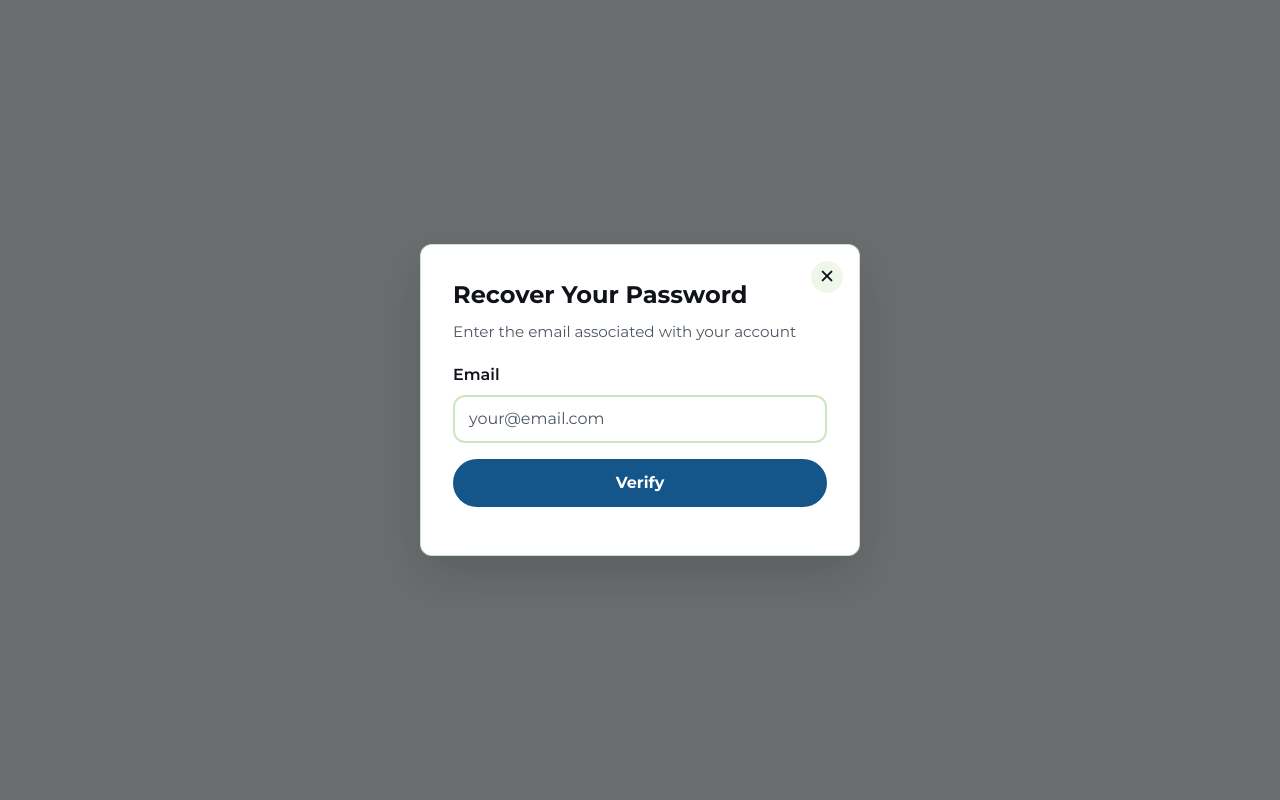
Test: PasswordRecoveryModal › walks through the recovery flow end to end
This screenshot has width=1280, height=800.
In the field labelled "Email": point(640, 419) [453,395,827,443], type "victor@example.com"
Click the button "Verify": point(640, 483) [453,459,827,507]
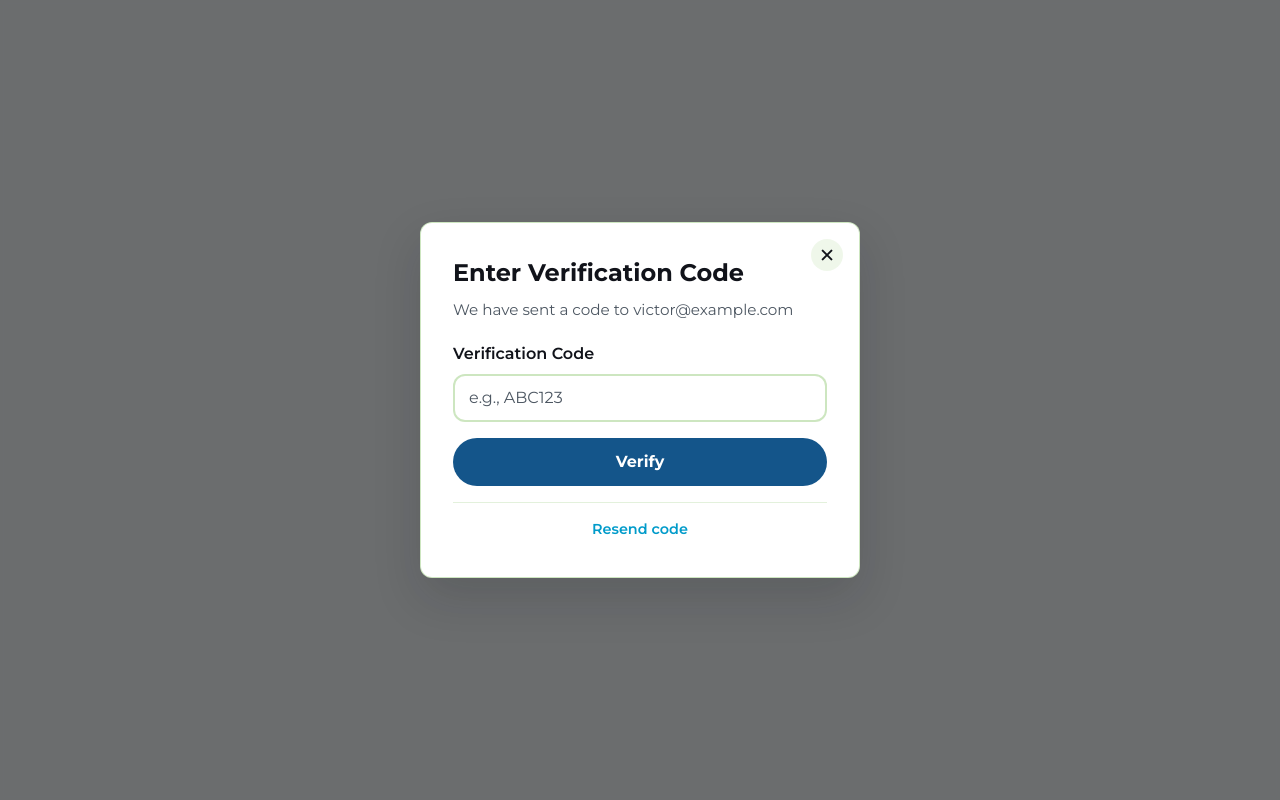
Now the heading "Enter Verification Code" is shown, box [453,258,744,287]
In the field labelled "Verification Code": point(640, 398) [453,374,827,422], type "abc123"
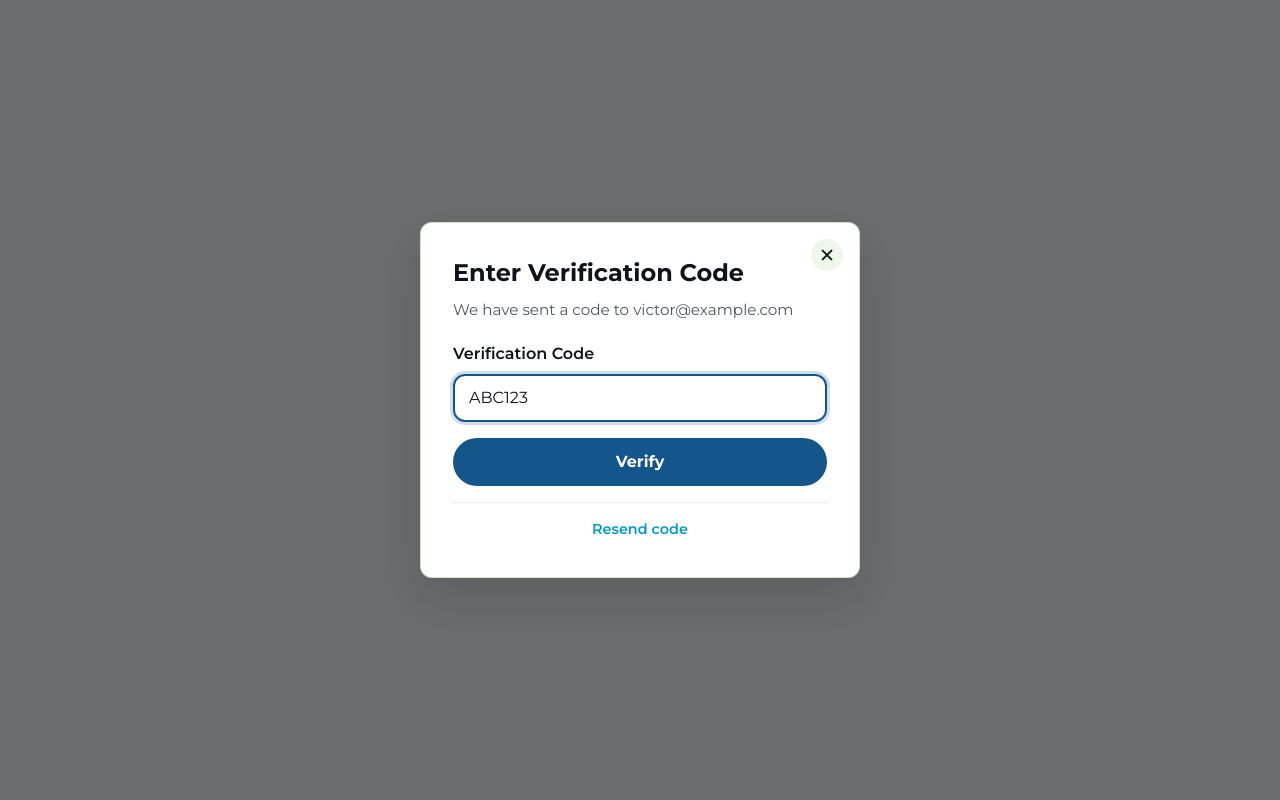
Click the button "Verify": point(640, 462) [453,438,827,486]
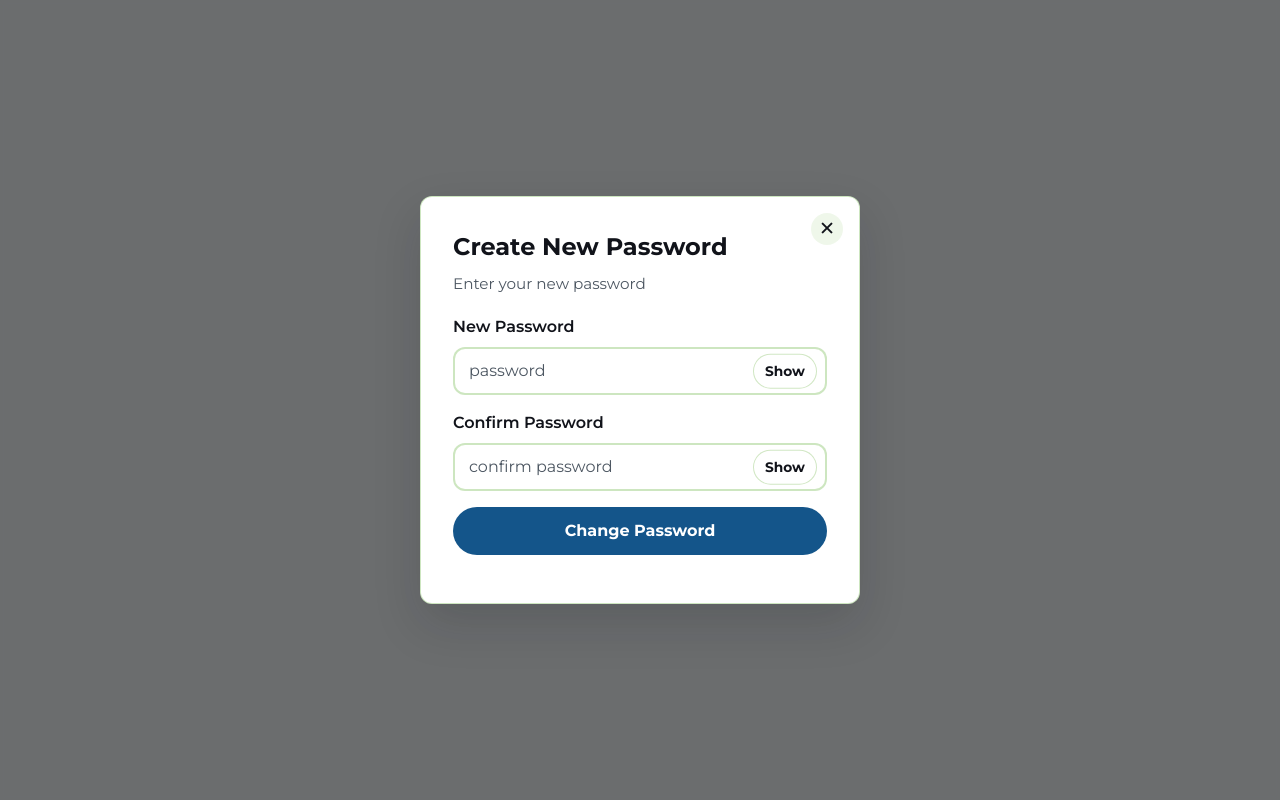
Now the heading "Create New Password" is shown, box [453,232,728,261]
In the password field labelled "New Password": point(640, 371) [453,347,827,395], type "password123"
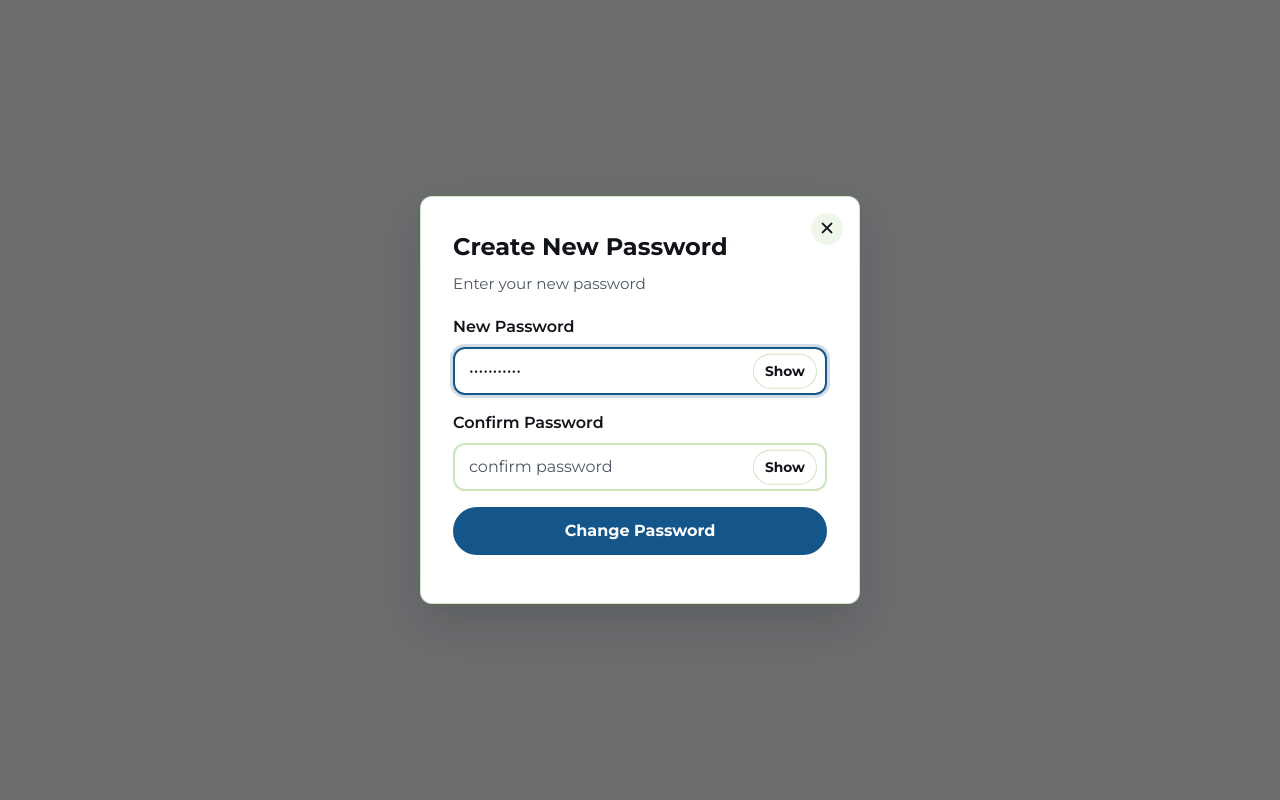
In the password field labelled "Confirm Password": point(640, 467) [453,443,827,491], type "password123"
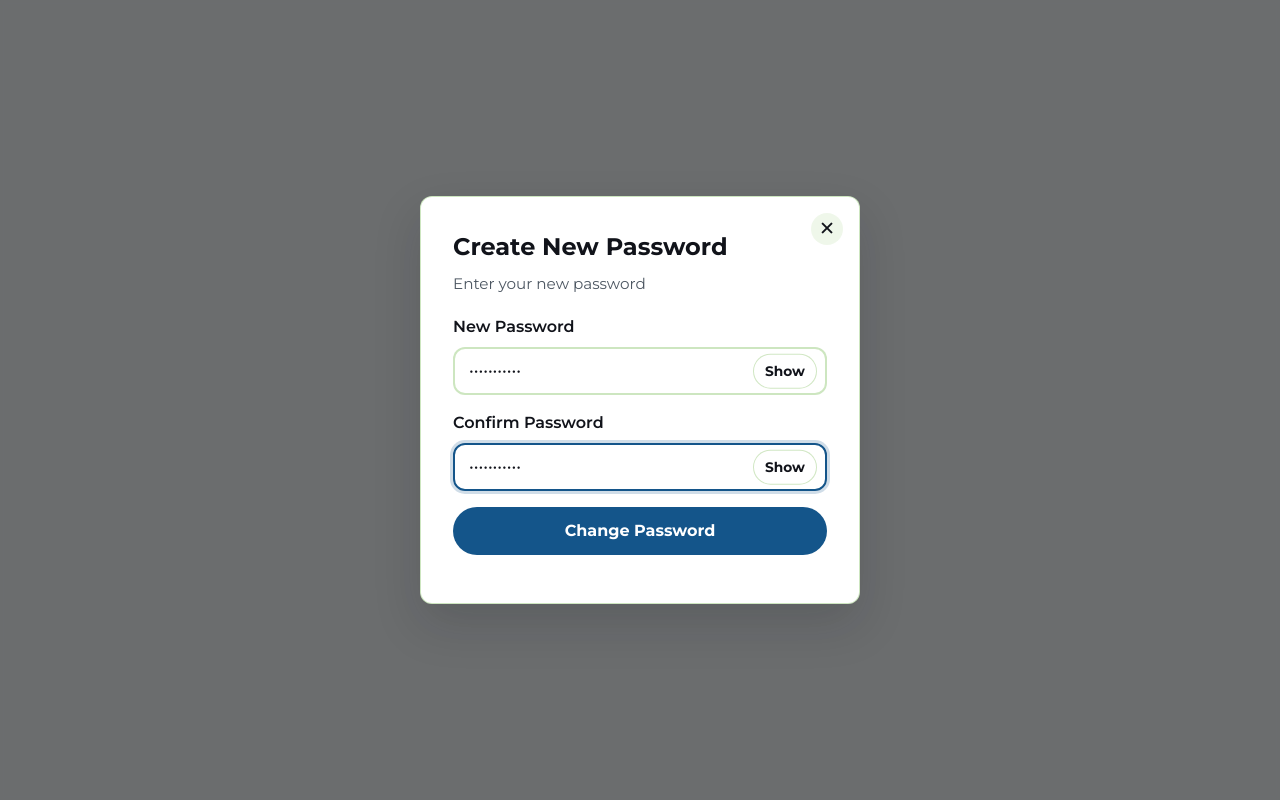
Click the button "Change Password": point(640, 531) [453,507,827,555]
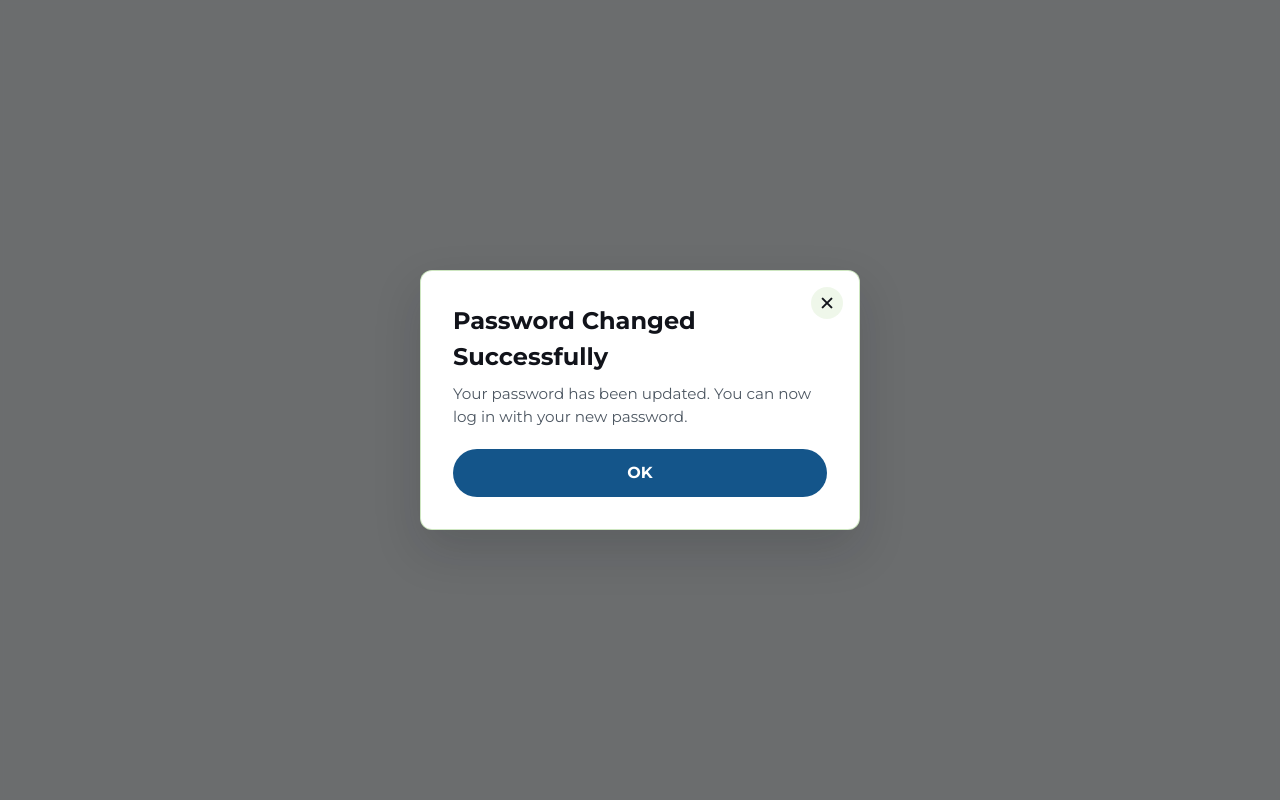
Now the heading "Password Changed Successfully" is shown, box [453,306,696,371]
